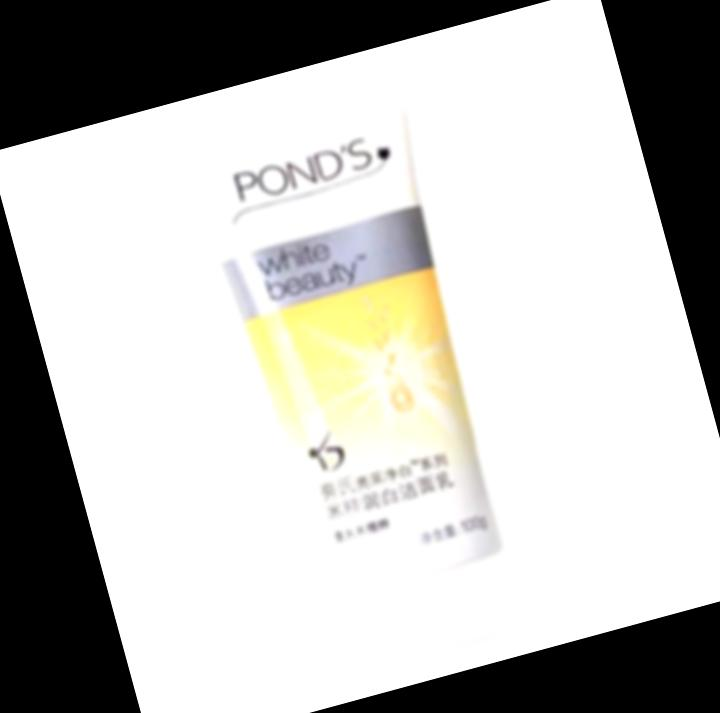cosmetic: (168, 70, 550, 687)
